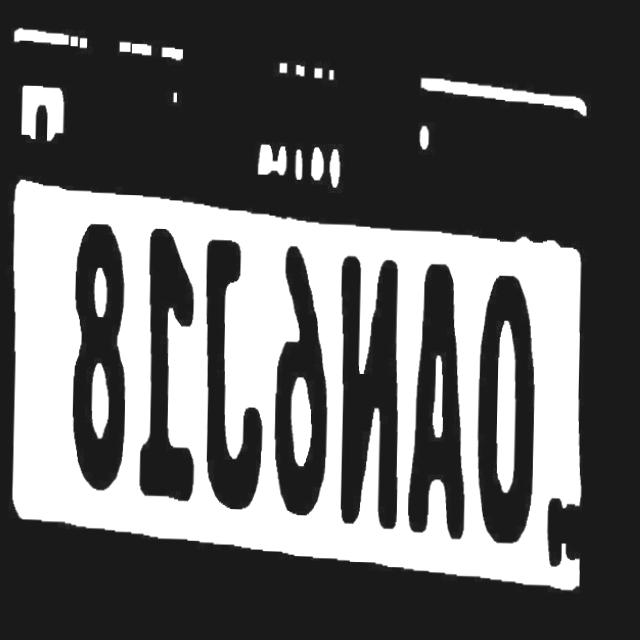1: (138, 219, 205, 508)
6: (273, 233, 334, 525)
8: (69, 208, 136, 499)
a: (409, 254, 475, 549)
j: (197, 227, 274, 513)
n: (340, 249, 407, 531)
o: (477, 263, 542, 543)
